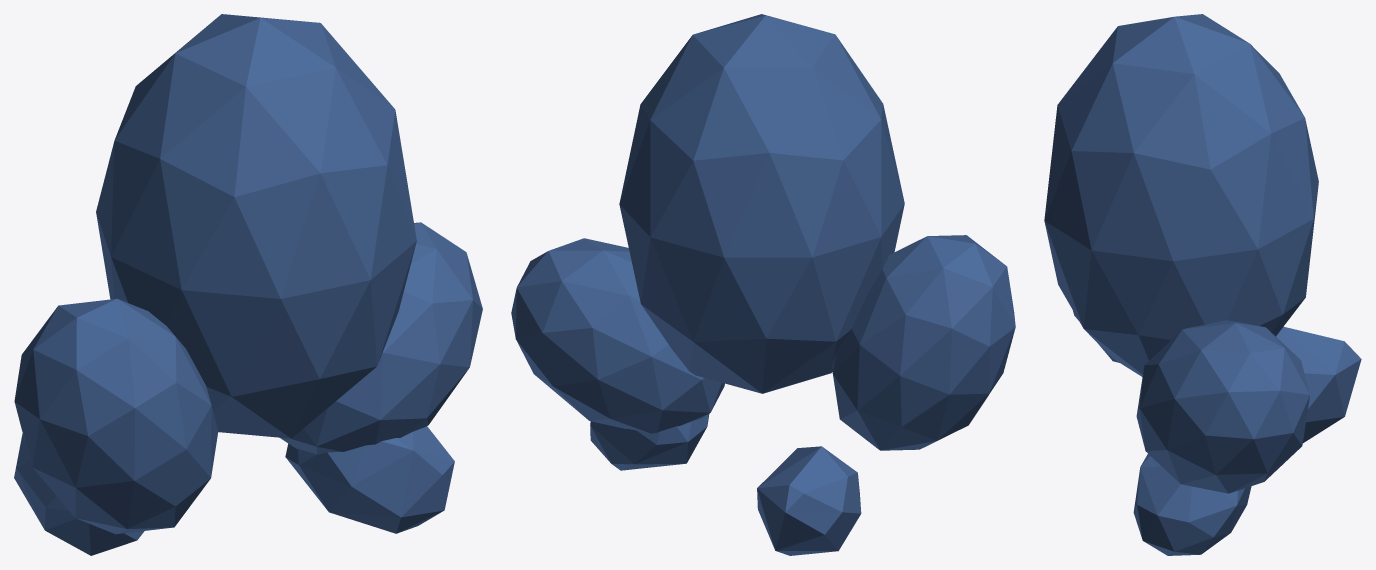
The model's file is tree-winter-leaves-10-040.glb.
3 views of the same model, side by side, from view 1: azimuth 30°, elevation 25°; view 2: azimuth 150°, elevation 25°; view 3: azimuth 270°, elevation 25° (orthographic). The views are drawn at different scales.
Parts seen in each view (by area): view 1: TREE 10.005_185; view 2: TREE 10.005_185; view 3: TREE 10.005_185.
Boxes of the visible parts, x1,y1,x2,y2 form: TREE 10.005_185: (14,14,482,555); TREE 10.005_185: (511,14,1015,555); TREE 10.005_185: (1044,14,1361,555).
Bounding box in the file's own units: 1.19 × 1.25 × 0.7525.
